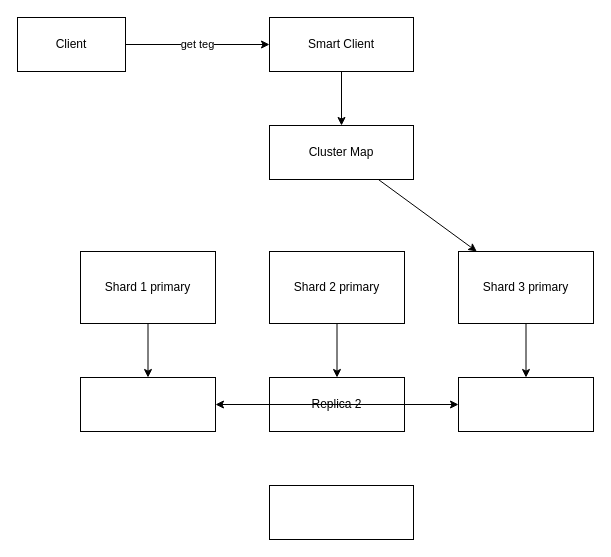
This 611x557 diagram has some shape labels left out. The shapes that lost their labels are listed below. From the top down, each one's box as (x1, y1, x2, y2) in pixels, then its label:
(80, 376, 216, 432): Replica 1
(458, 376, 594, 432): Replica 3
(268, 484, 414, 540): Sentinel
